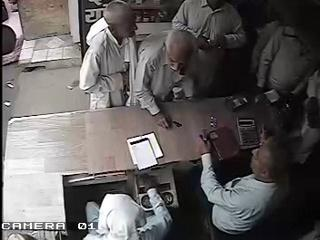Normal: (196, 128, 294, 239), (172, 0, 250, 100), (131, 29, 198, 129), (252, 1, 320, 96), (82, 174, 174, 240), (236, 118, 260, 150)
shoplifting: (78, 1, 139, 110)
